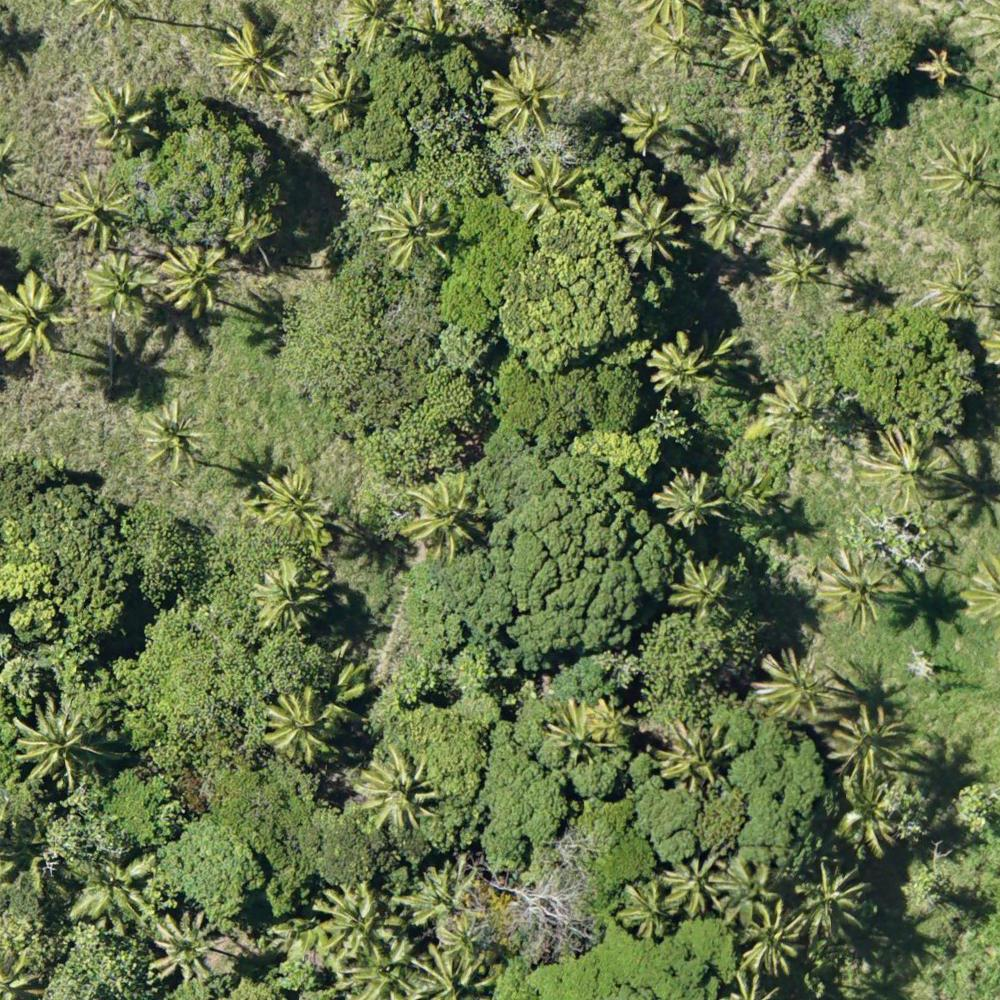Palm: (66, 850, 163, 938), (11, 704, 103, 791), (863, 430, 946, 518), (487, 51, 571, 136), (720, 1, 802, 86), (355, 747, 437, 831), (1, 268, 74, 362), (379, 186, 458, 269), (692, 166, 771, 246), (58, 164, 132, 249), (267, 685, 345, 764), (802, 863, 880, 939), (820, 548, 891, 627), (925, 133, 1000, 206), (508, 150, 584, 222), (253, 472, 329, 544), (218, 23, 289, 98), (650, 465, 725, 536), (652, 719, 726, 790), (414, 474, 484, 549), (311, 885, 387, 954), (84, 80, 161, 148), (613, 191, 684, 264), (713, 855, 782, 928), (254, 560, 323, 633), (672, 556, 742, 626), (136, 404, 208, 472), (153, 912, 221, 984), (753, 652, 823, 721), (836, 780, 900, 854), (298, 64, 366, 133), (762, 378, 828, 449), (833, 708, 904, 773), (548, 689, 614, 758), (742, 901, 803, 974), (157, 247, 222, 315), (81, 250, 150, 314), (919, 265, 992, 325), (346, 941, 415, 1000), (649, 334, 713, 396), (613, 879, 679, 939), (664, 855, 728, 916), (619, 97, 680, 156), (767, 244, 829, 299), (437, 915, 496, 971), (342, 1, 407, 50), (646, 19, 700, 74)
